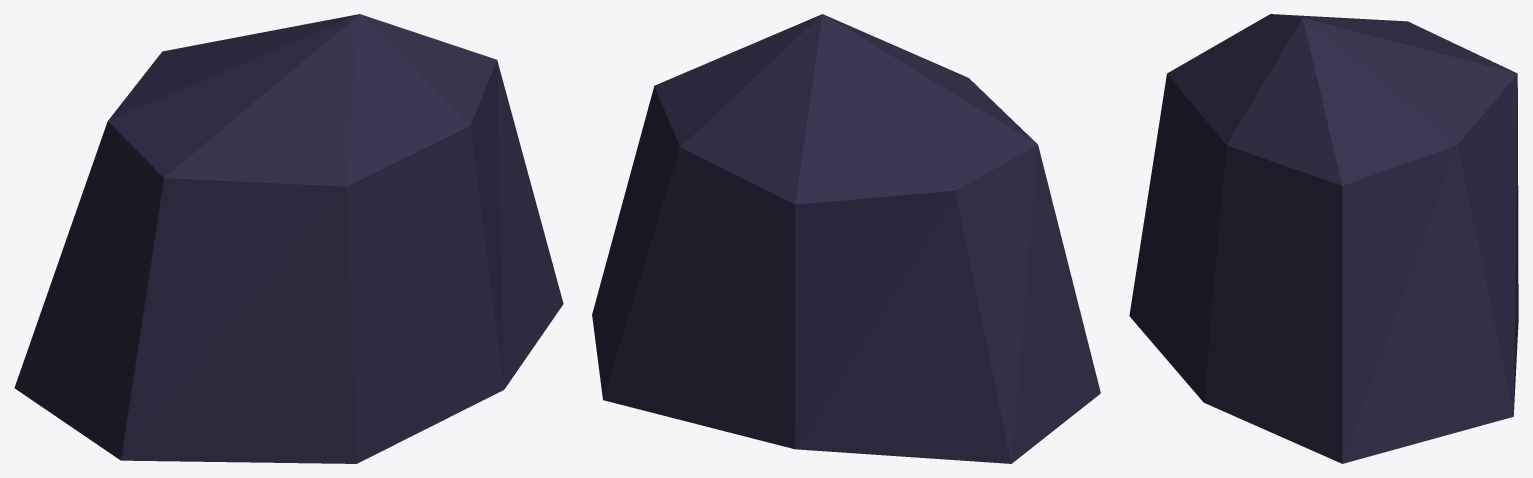
The model's file is Kit_VoidRift_Rock_LOD0.glb.
The picture shows the model from 3 angles, left to right: view 1: azimuth 30°, elevation 25°; view 2: azimuth 150°, elevation 25°; view 3: azimuth 270°, elevation 25°; orthographic projection. The views are drawn at different scales.
Visible parts, largest first — view 1: Kit_VoidRift_Rock_LOD0_VoidRift_dark_0_-1; view 2: Kit_VoidRift_Rock_LOD0_VoidRift_dark_0_-1; view 3: Kit_VoidRift_Rock_LOD0_VoidRift_dark_0_-1.
Part boxes in pixels (left/top/right/bottom): Kit_VoidRift_Rock_LOD0_VoidRift_dark_0_-1: left=14, top=14, right=563, bottom=463; Kit_VoidRift_Rock_LOD0_VoidRift_dark_0_-1: left=592, top=14, right=1100, bottom=463; Kit_VoidRift_Rock_LOD0_VoidRift_dark_0_-1: left=1129, top=14, right=1518, bottom=463.
Bounding box in the file's own units: 9.61 × 8.08 × 6.85.
